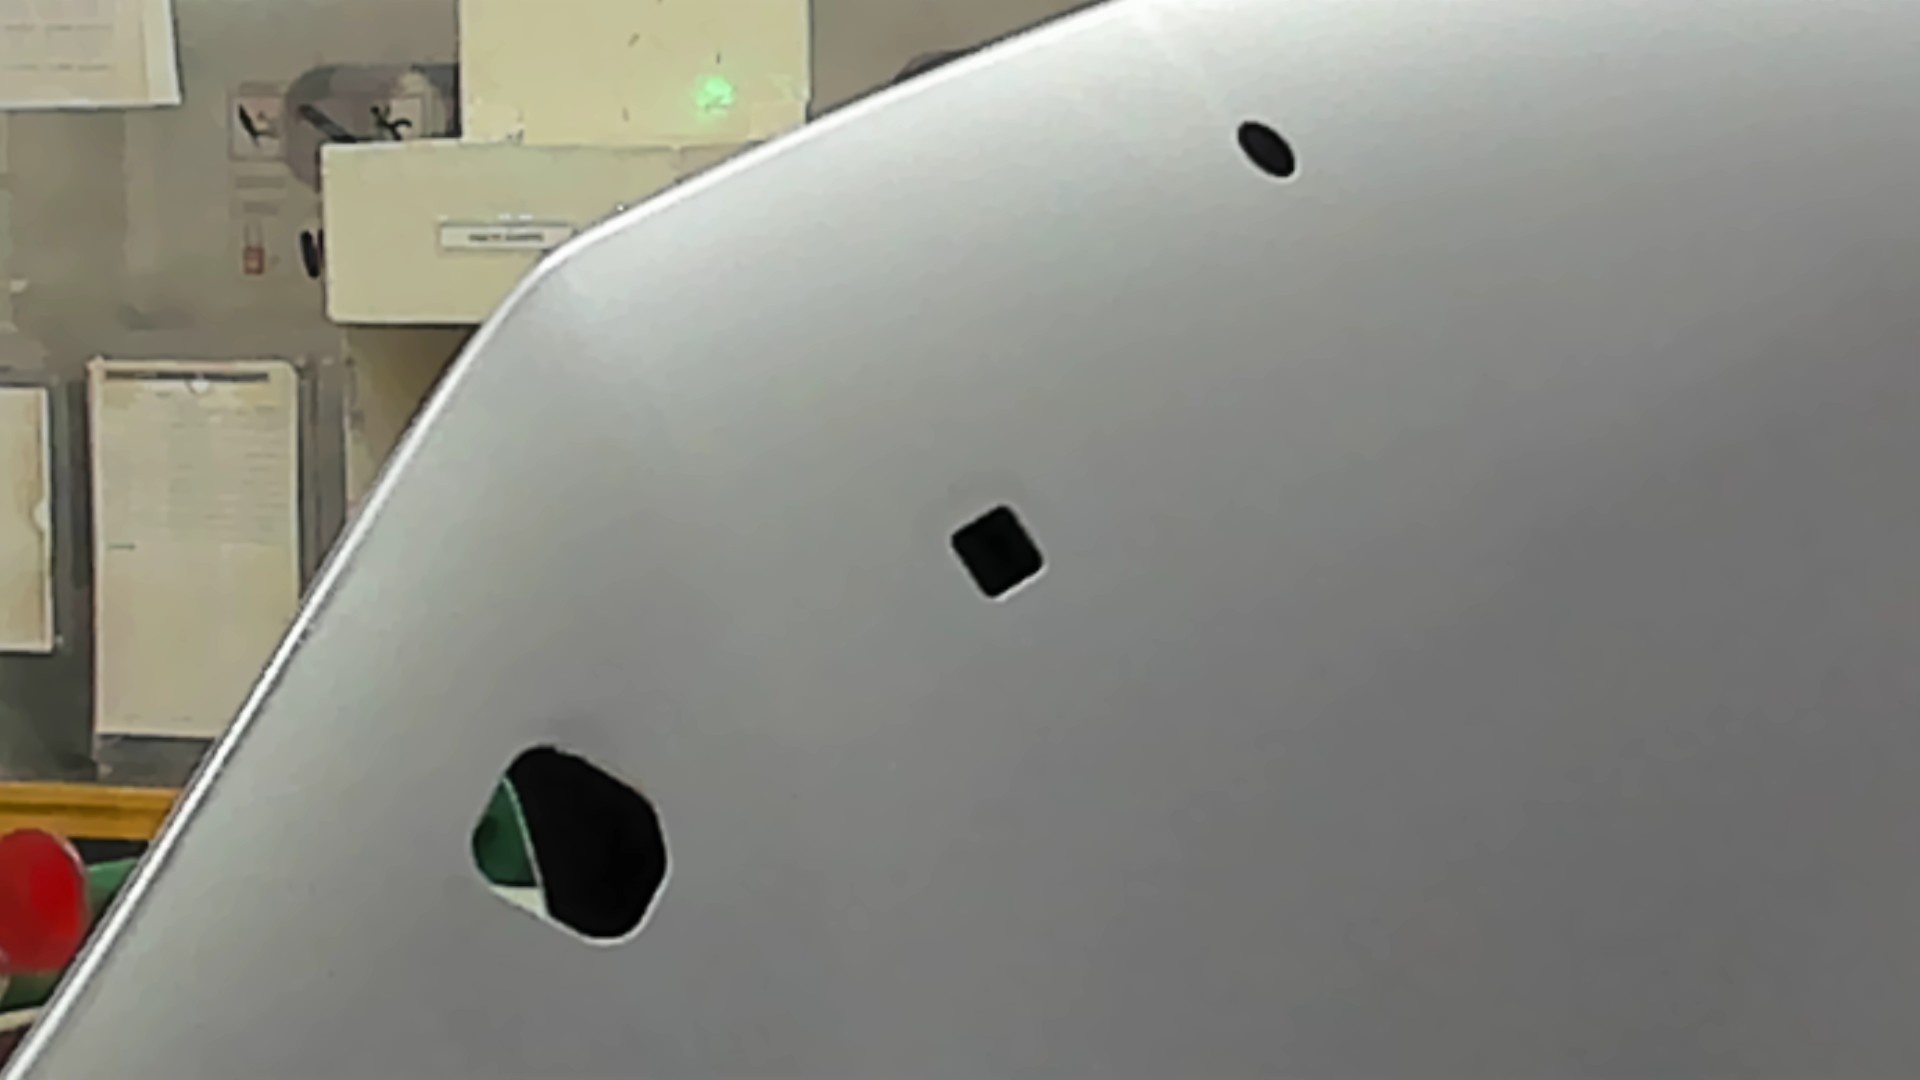chico: (1228, 113, 1311, 195)
grande: (443, 736, 680, 963)
mediano: (932, 495, 1058, 609)
